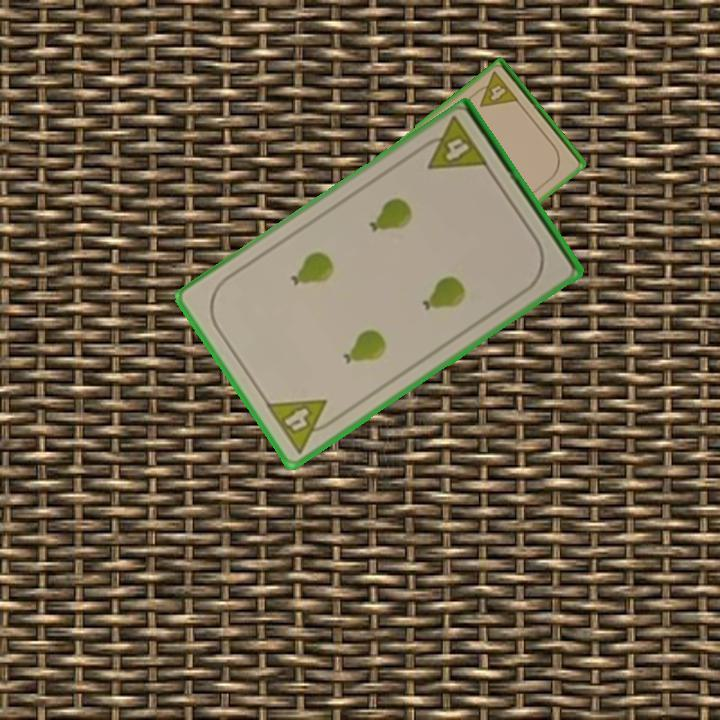4p: (262, 395, 341, 457), (414, 114, 492, 174), (469, 68, 521, 110)
